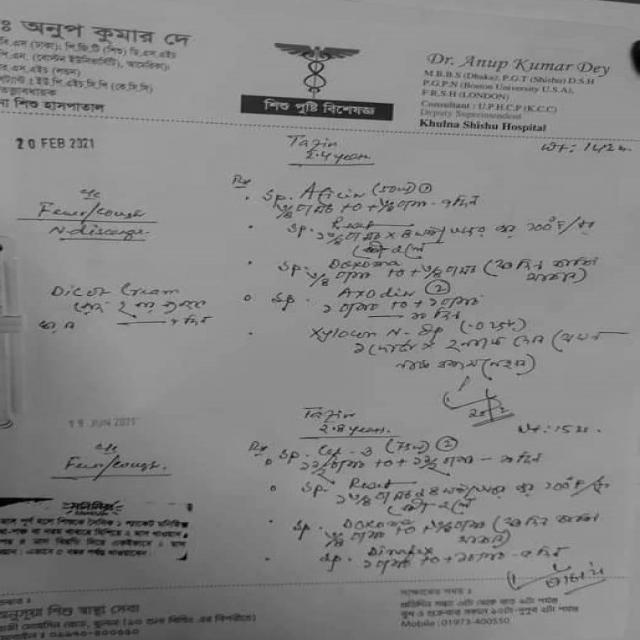Axodin: (328, 285, 423, 301)
Doxoma: (316, 257, 409, 271)
Xylocon: (300, 323, 378, 345)
